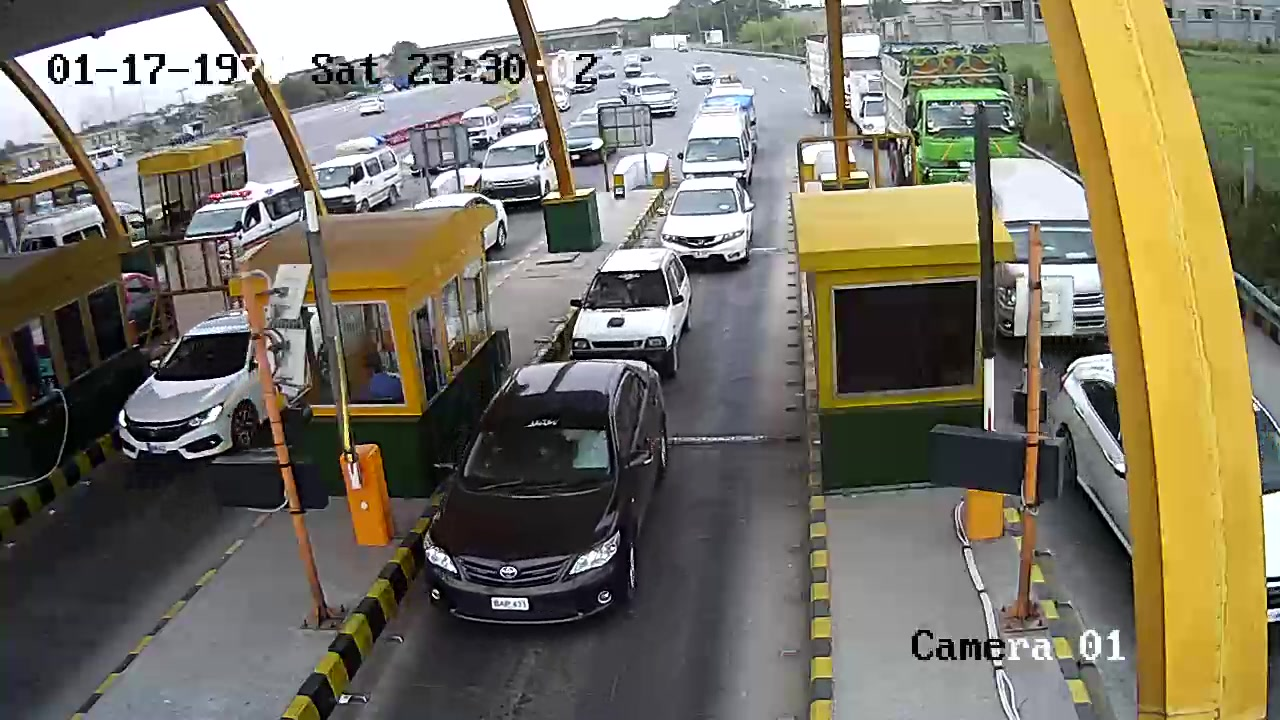F1: (421, 359, 678, 629)
